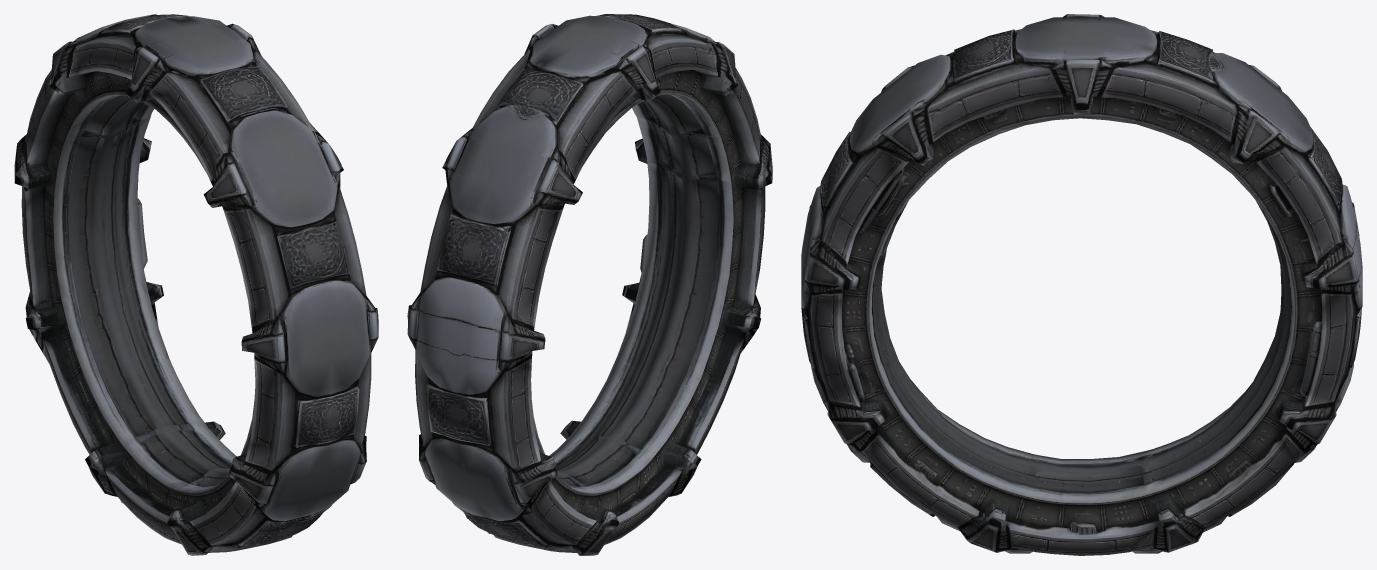
Rendered from gunmetal-gate-no-glyphs.glb.
3 renders of one model, left to right at view 1: azimuth 30°, elevation 25°; view 2: azimuth 150°, elevation 25°; view 3: azimuth 270°, elevation 25°, orthographic. The views are drawn at different scales.
Visible parts, largest first — view 1: Gunmetal Gate No Glyphs; view 2: Gunmetal Gate No Glyphs; view 3: Gunmetal Gate No Glyphs.
Boxes of the visible parts, x1,y1,x2,y2 form: Gunmetal Gate No Glyphs: [14, 14, 378, 555]; Gunmetal Gate No Glyphs: [407, 14, 772, 555]; Gunmetal Gate No Glyphs: [801, 14, 1362, 555].
Bounding box in the file's own units: 0.291 × 0.998 × 0.998.
1 material, 1 textured.
